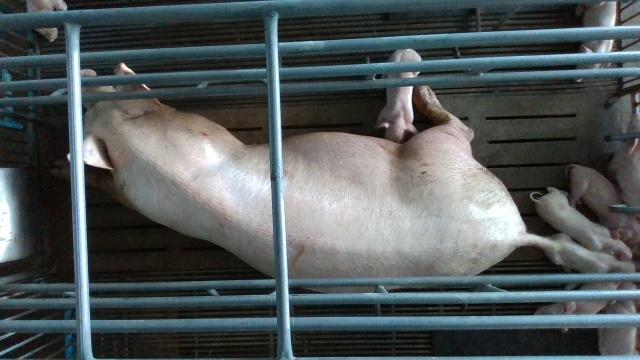piglet: (533, 186, 626, 258), (566, 163, 640, 235), (529, 275, 617, 331), (377, 47, 423, 142), (532, 231, 626, 277), (598, 278, 640, 356), (614, 113, 640, 215), (25, 0, 72, 45)
sow-sit: (67, 61, 554, 296)
